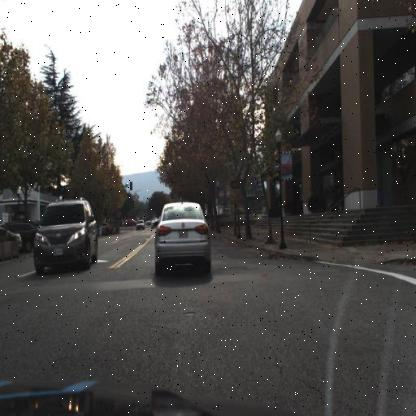car: (34, 193, 100, 273), (153, 199, 212, 276), (0, 221, 38, 256), (96, 223, 106, 240), (135, 218, 146, 230), (150, 217, 155, 229)
